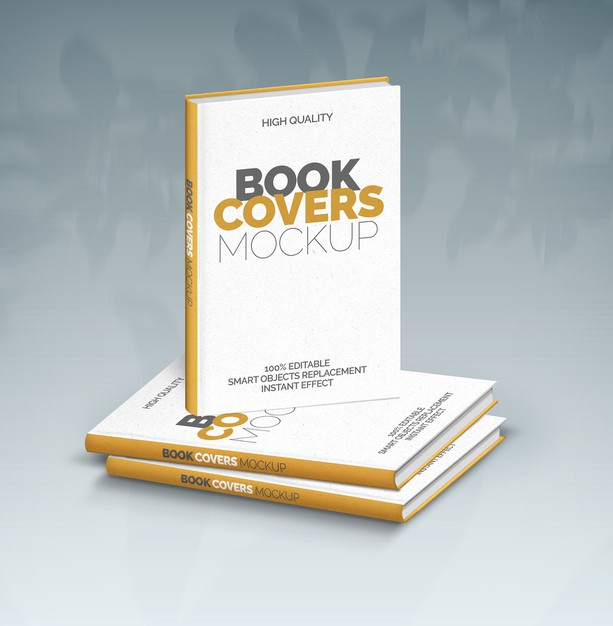book: (170, 80, 420, 413), (82, 354, 503, 489), (108, 419, 507, 522)
